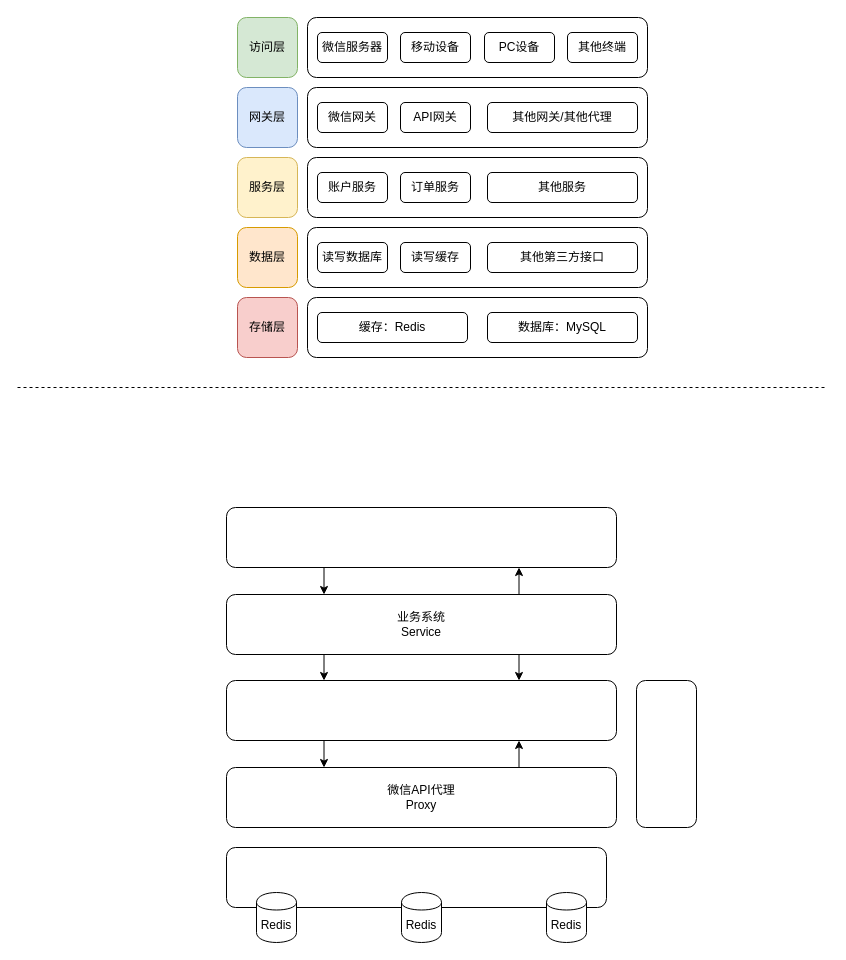
This 846x960 diagram has some shape labels left out. The shapes that lost their labels are listed below. From the top down, each one's centre as x and y in pixels, then its label:
point (421, 537): 微信网关 Gateway
point (421, 710): 微信API客户端 Client
point (666, 754): 微信API
